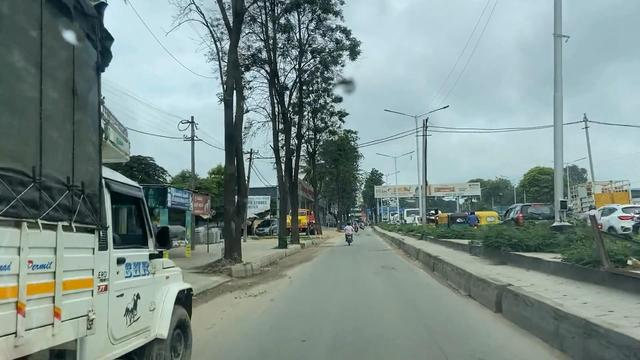HMV: (0, 178, 192, 360)
